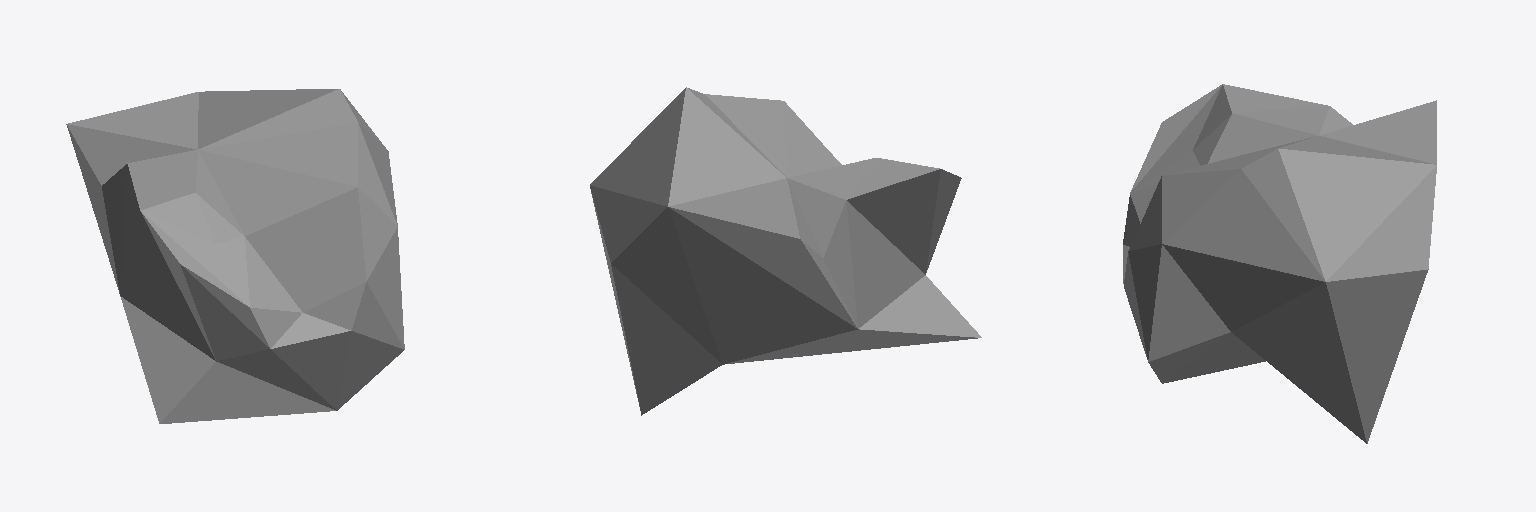
Rendered from Moteor.obj.
The picture shows the model from 3 angles: view 1: azimuth 30°, elevation 25°; view 2: azimuth 150°, elevation 25°; view 3: azimuth 270°, elevation 25°; orthographic projection.
Visible parts, largest first — view 1: Meteor1_Cube; view 2: Meteor1_Cube; view 3: Meteor1_Cube.
Part boxes in pixels (x1,y1,x2,y2): Meteor1_Cube: (66, 89, 404, 423); Meteor1_Cube: (590, 87, 981, 415); Meteor1_Cube: (1123, 84, 1436, 443).
Size of the model in its own units: 2.61 by 2.37 by 2.29.